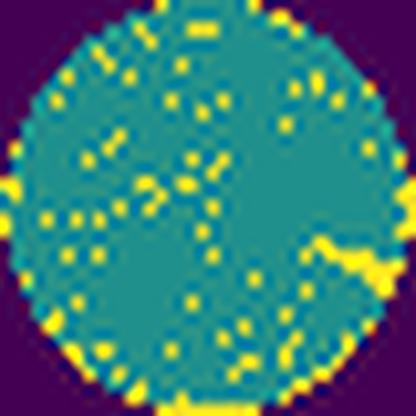Loc: (297, 234, 405, 292), (390, 173, 416, 238)
